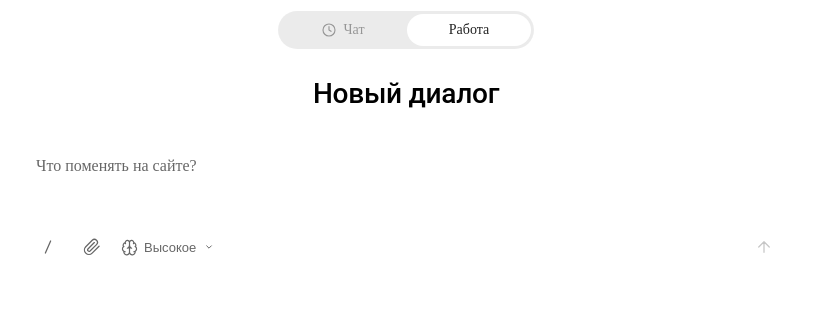
Test: new dialog › never starts a dialog with the words of a command
The width and height of the screenshot is (823, 320).
In the text box named "Сообщение": (416, 183) [26,145,806,221], type "/release"
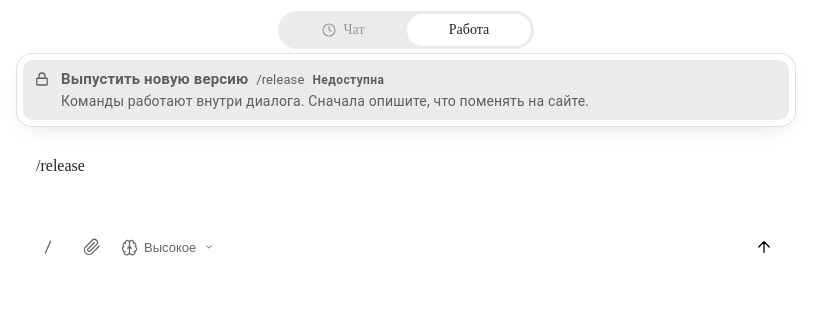
Click the button named "Отправить": (764, 247) [742,225,786,269]
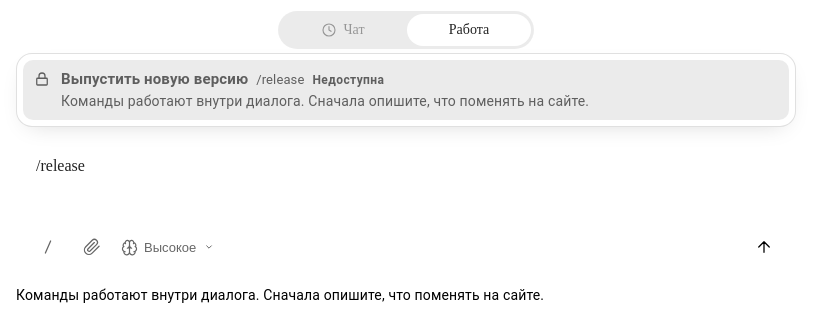
Result: the message reads "Команды работают внутри диалога. Сначала опишите, что поменять на сайте." at [16,287,544,303]
